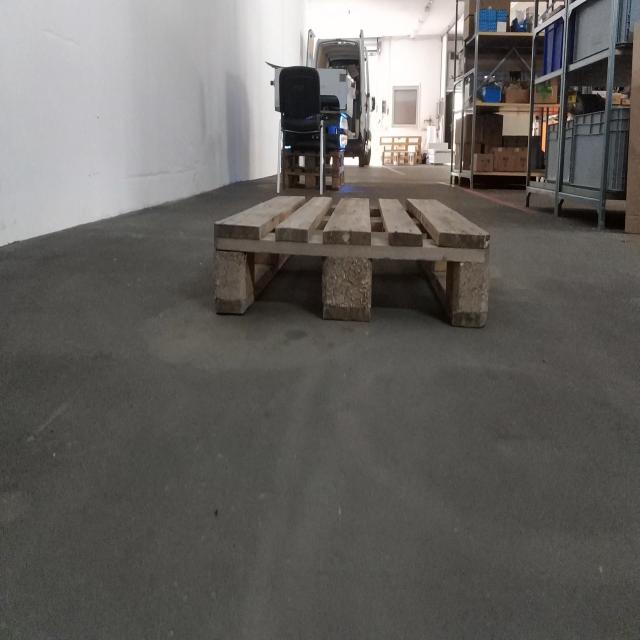block: (319, 228, 374, 322), (450, 226, 490, 326), (212, 219, 248, 317)
front: (211, 213, 493, 330)
